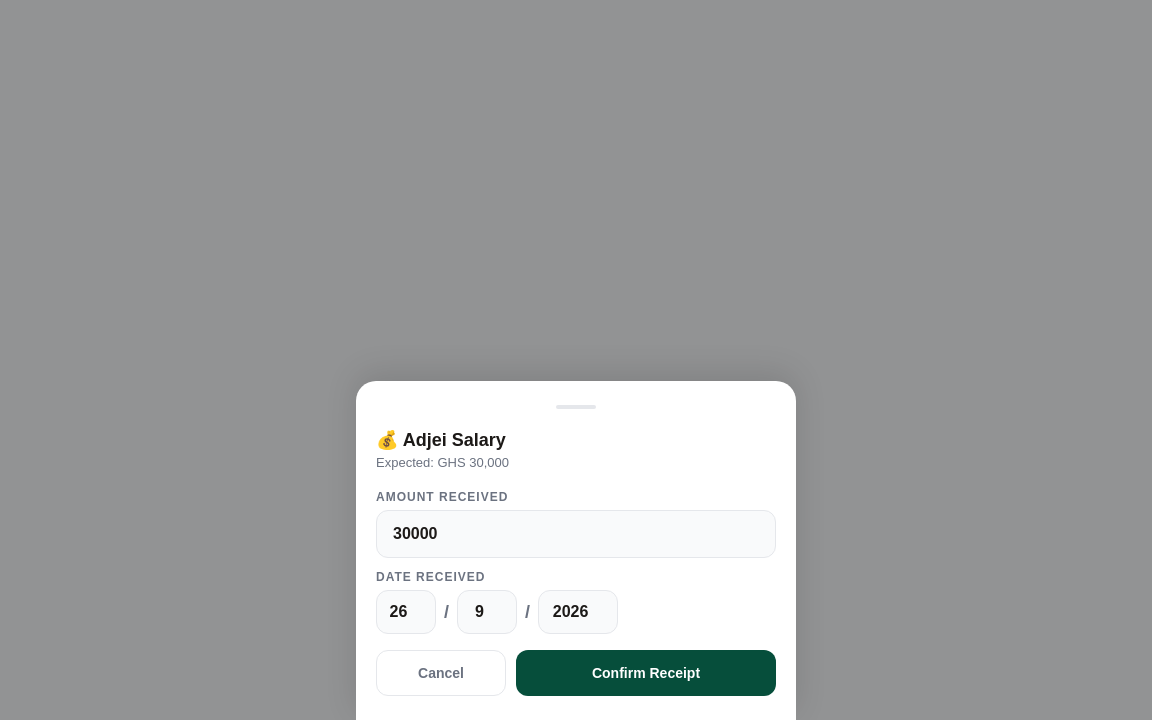
Test: ConfirmSheet › shows error for month > 12 on confirm
Replace the text in the number field with test id "confirm-date-month" with "15". click: (487, 612)
box: [457,590,517,634]
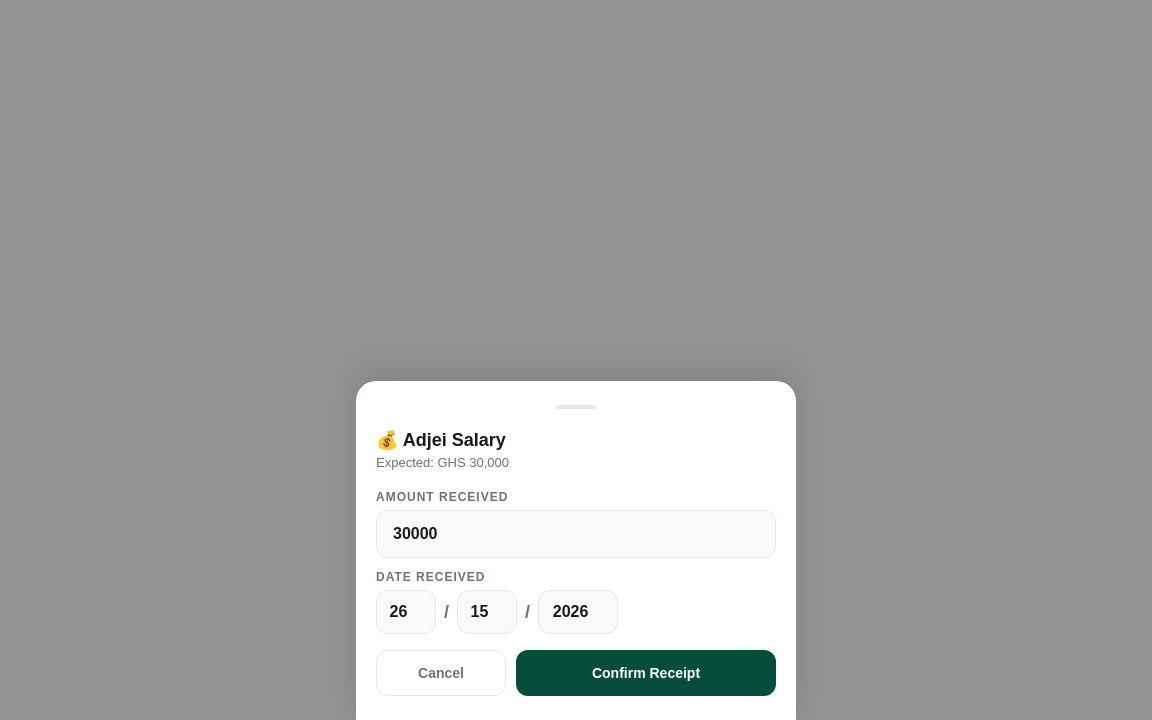
Click the button "Confirm Receipt". click: (646, 673)
box: [516,650,776,696]
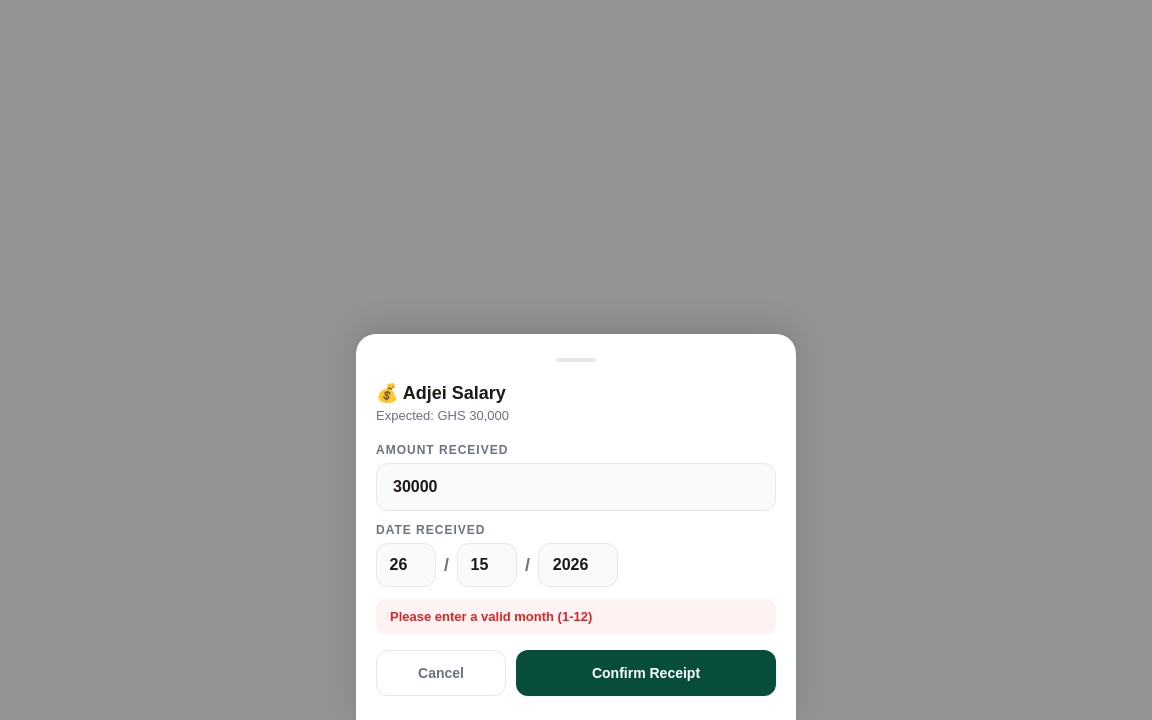
Result: the text "Please enter a valid month (1-12)" is shown at [390,609,592,624]
